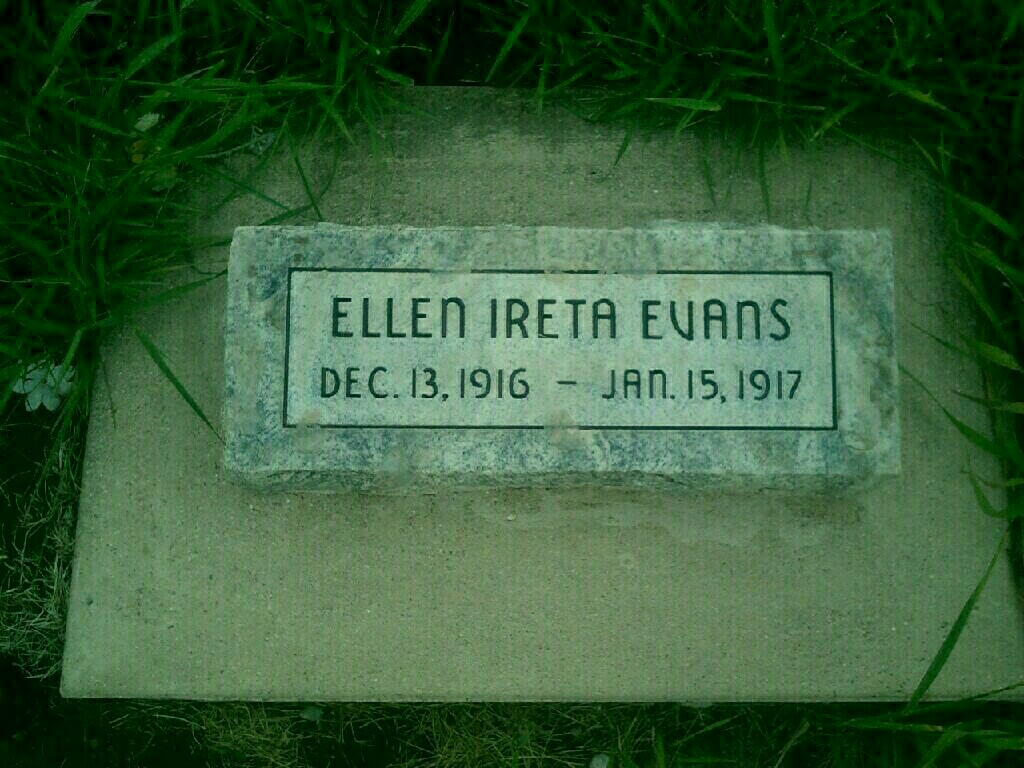flat: (217, 197, 909, 498)
